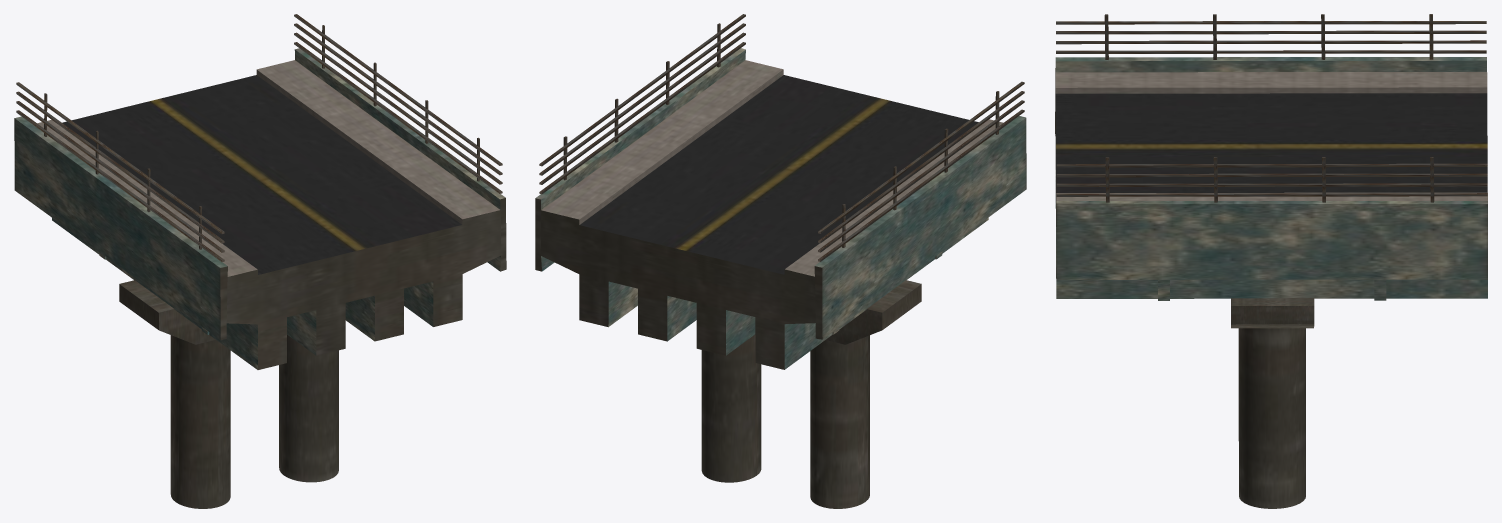
The model's file is br_seg.glb.
The picture shows the model from 3 angles, left to right: view 1: azimuth 30°, elevation 25°; view 2: azimuth 150°, elevation 25°; view 3: azimuth 270°, elevation 25°; orthographic projection. The views are drawn at different scales.
Parts seen in each view (by area): view 1: body|Asphalt, body|BlueWall, body|concreteSupport, pier|concreteSupport, body|Footpath, railL|RustedRailing, railR|RustedRailing, cap|concreteSupport; view 2: body|Asphalt, body|BlueWall, body|concreteSupport, pier|concreteSupport, body|Footpath, railL|RustedRailing, railR|RustedRailing, cap|concreteSupport; view 3: body|BlueWall, body|Asphalt, body|Footpath, pier|concreteSupport, railR|RustedRailing, railL|RustedRailing, cap|concreteSupport.
Part boxes in pixels (x1,y1,x2,y2): body|Asphalt: (62,75,461,274); body|BlueWall: (14,48,505,369); body|concreteSupport: (220,198,506,369); pier|concreteSupport: (170,335,338,508); body|Footpath: (37,60,499,276); railL|RustedRailing: (16,82,224,261); railR|RustedRailing: (294,14,502,193); cap|concreteSupport: (119,280,215,344); body|Asphalt: (579,75,978,274); body|BlueWall: (535,48,1026,369); body|concreteSupport: (535,198,822,369); pier|concreteSupport: (701,334,869,508); body|Footpath: (541,60,1003,276); railL|RustedRailing: (818,81,1024,261); railR|RustedRailing: (539,14,745,194); cap|concreteSupport: (826,280,921,344); body|BlueWall: (1055,57,1487,300); body|Asphalt: (1055,93,1487,192); body|Footpath: (1055,72,1487,200); pier|concreteSupport: (1238,328,1305,508); railR|RustedRailing: (1056,157,1487,202); railL|RustedRailing: (1056,14,1486,59); cap|concreteSupport: (1231,298,1314,328).
Size of the model in its own units: 7.75 by 9.42 by 9.6.
Materials: 8 (8 with a texture image).
